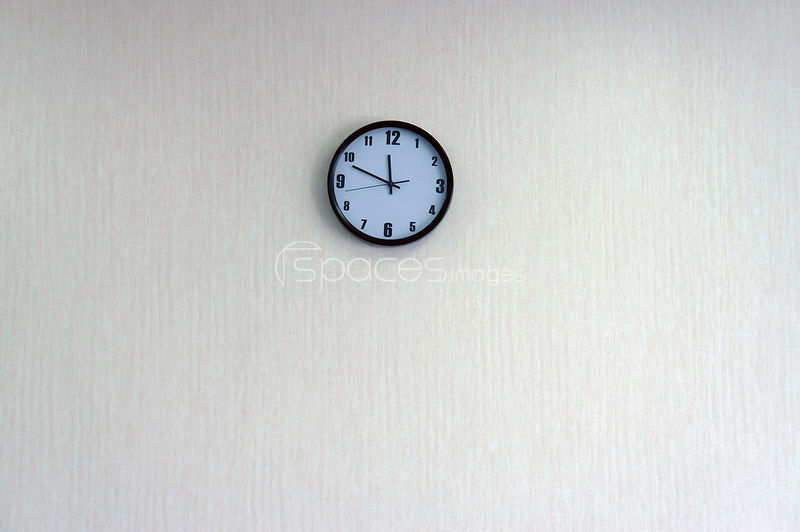clock: (332, 126, 447, 241)
